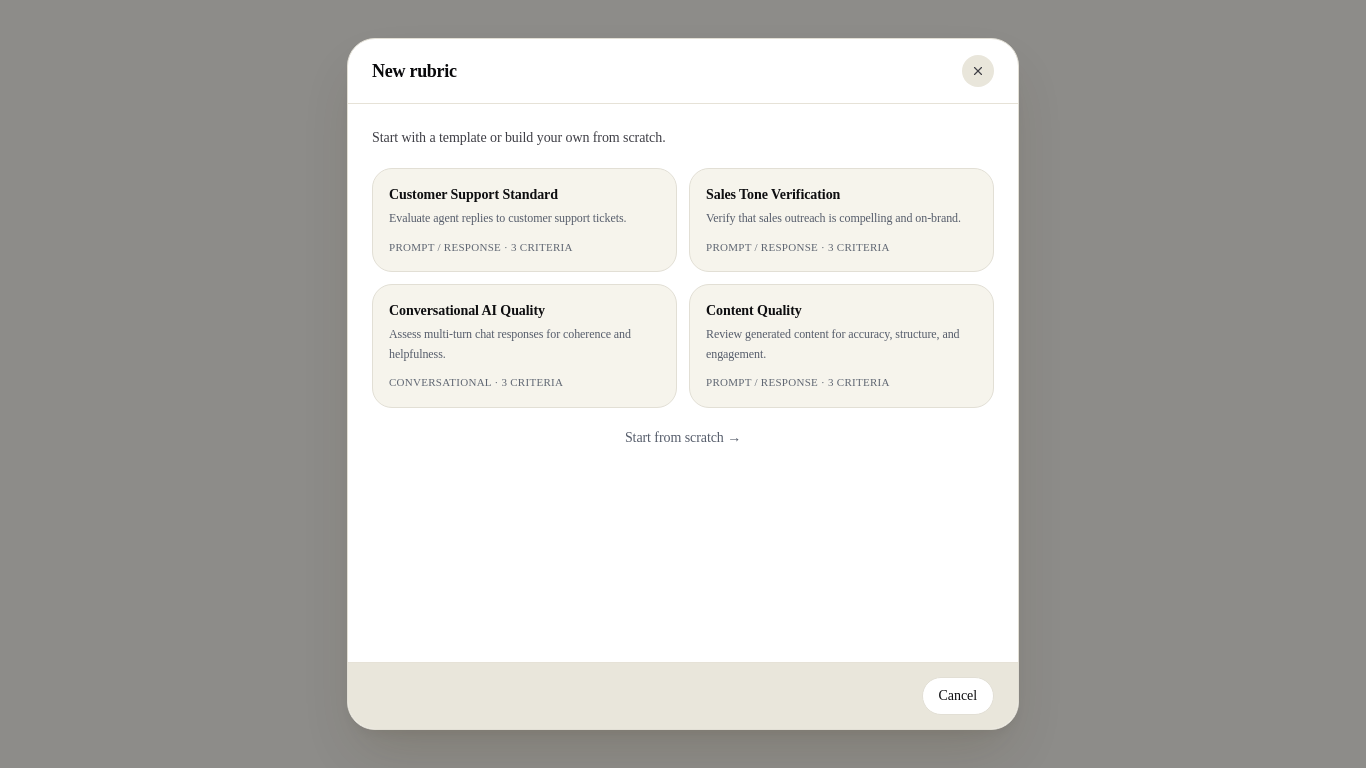
Test: RubricDialog — create mode › shows 'Sales Tone Verification' template content after selection
Click the button with test id "template-card-sales-tone-verification".
click(842, 220)  # box [689,168,994,272]
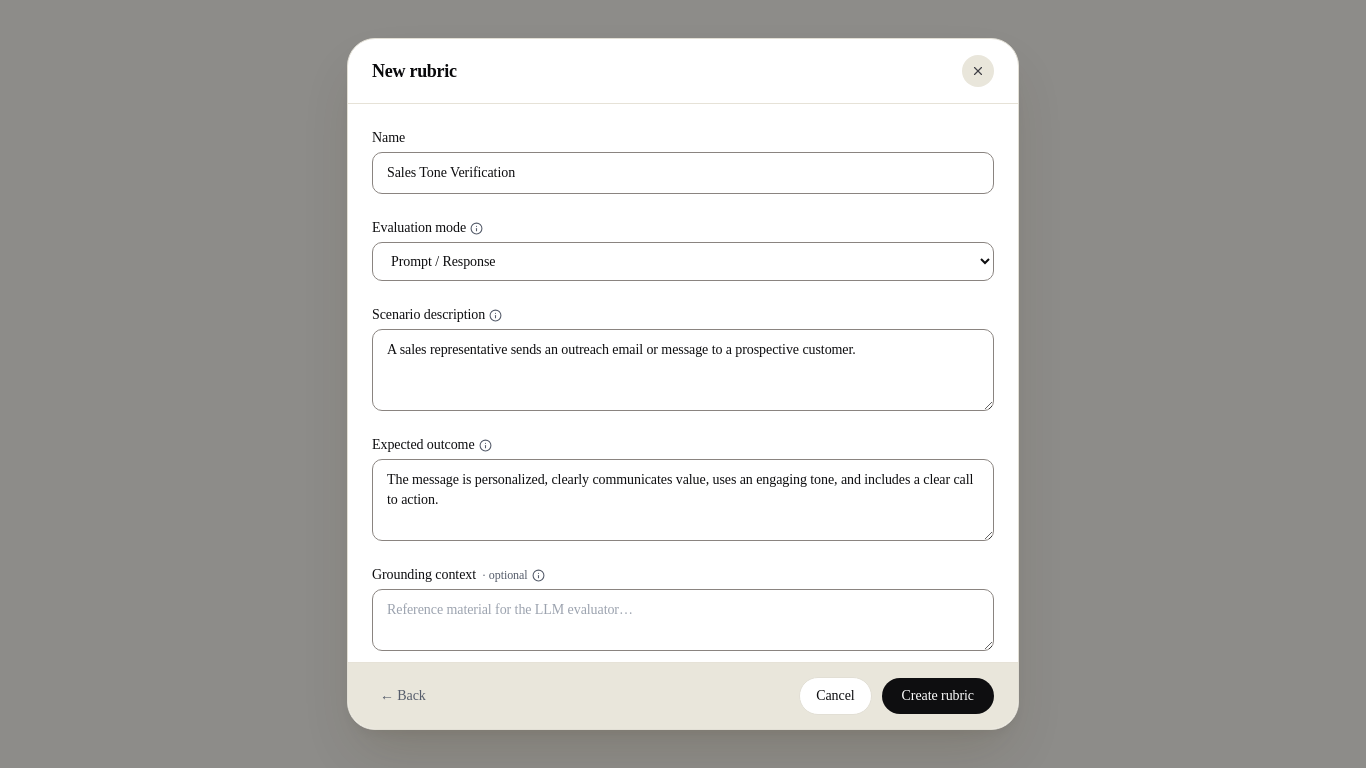
Expected: the field with placeholder "e.g. Customer support quality" holds "Sales Tone Verification", [372,152,994,194]
